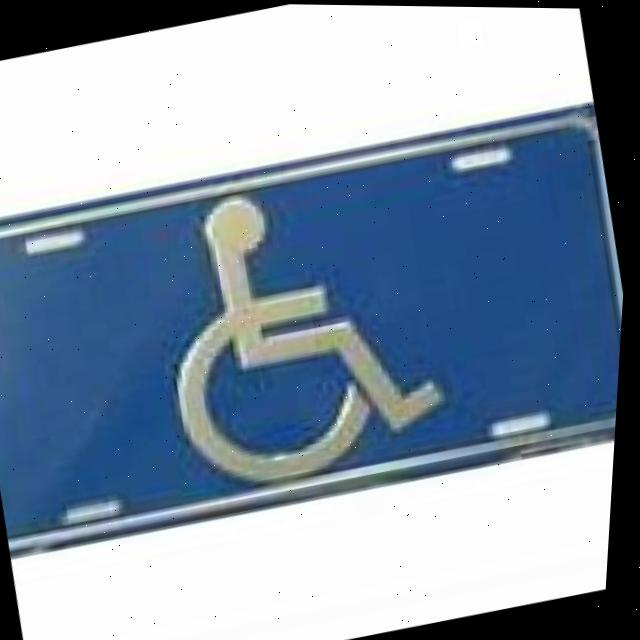symbol_of_access: (140, 158, 471, 497)
